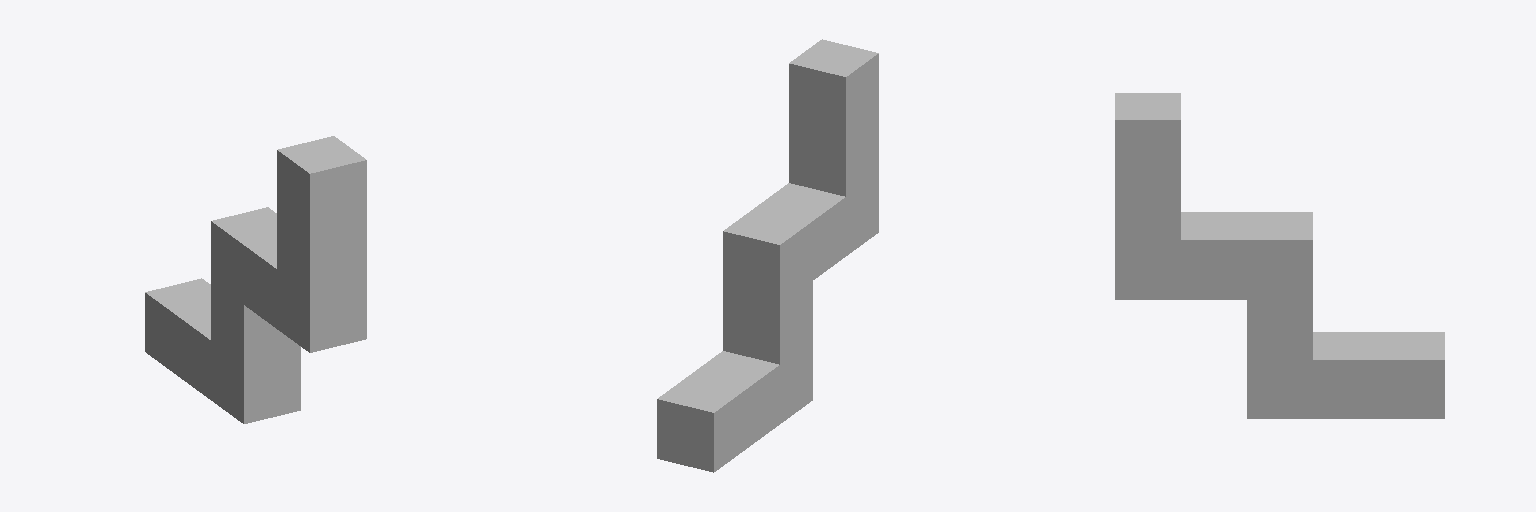
The model's file is spring.obj.
3 views of the same model, side by side, from view 1: azimuth 30°, elevation 25°; view 2: azimuth 150°, elevation 25°; view 3: azimuth 270°, elevation 25° (orthographic).
Parts seen in each view (by area): view 1: Cube_Cube.001; view 2: Cube_Cube.001; view 3: Cube_Cube.001.
Boxes of the visible parts, <box> form: Cube_Cube.001: <box>145,136,366,423</box>; Cube_Cube.001: <box>657,39,878,472</box>; Cube_Cube.001: <box>1115,93,1444,418</box>.
Bounding box in the file's own units: 4 × 20 × 20.